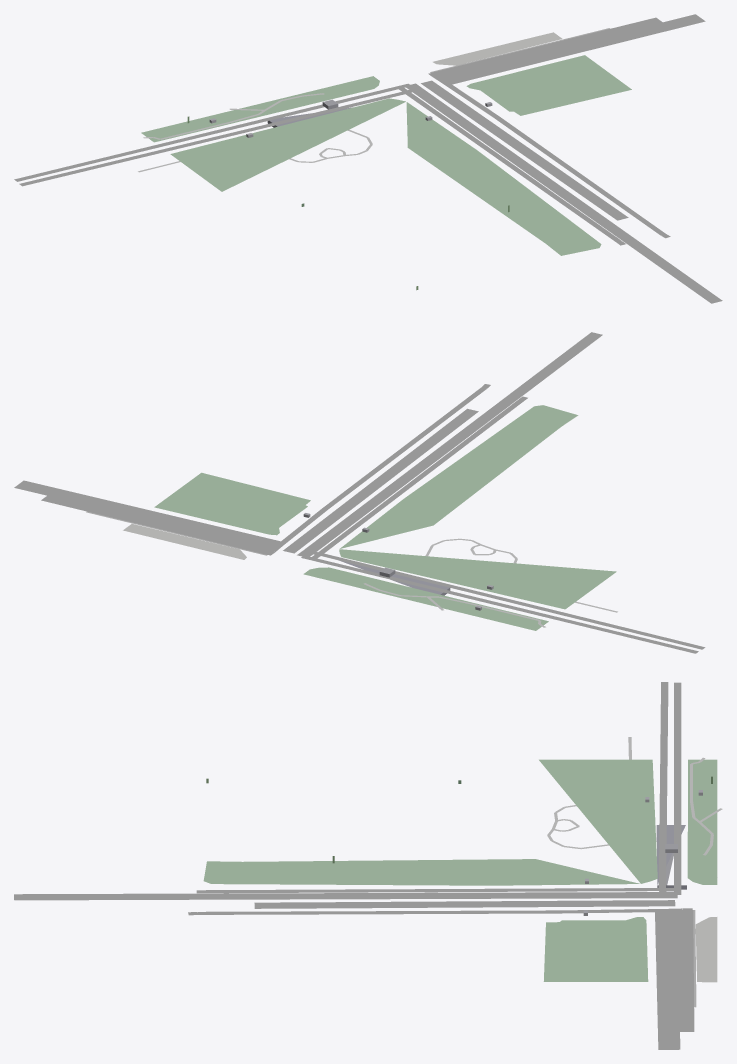
3 renders of one model, top to bottom at view 1: azimuth 30°, elevation 25°; view 2: azimuth 150°, elevation 25°; view 3: azimuth 270°, elevation 25°, orthographic. The views are drawn at different scales.
Size of the model in its own units: 826 by 24.53 by 675.
